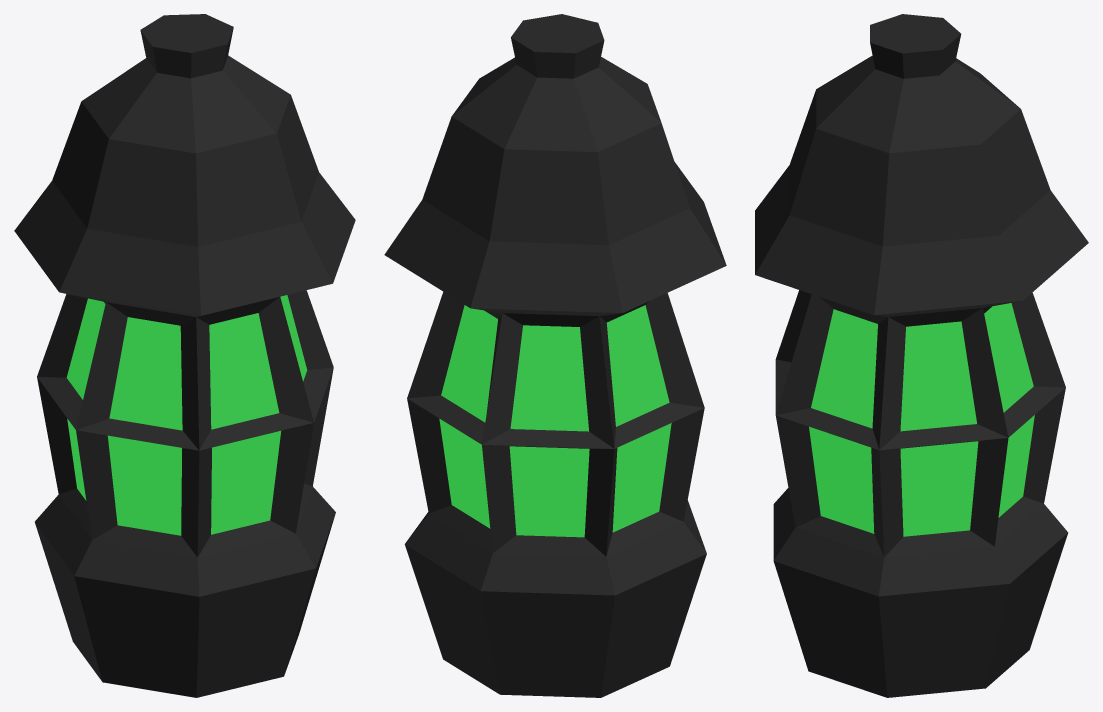
The model's file is LPHorror_Circle.fbx.
The picture shows the model from 3 angles, left to right: view 1: azimuth 30°, elevation 25°; view 2: azimuth 150°, elevation 25°; view 3: azimuth 270°, elevation 25°; orthographic projection.
Visible parts, largest first — view 1: Circle; view 2: Circle; view 3: Circle.
Boxes of the visible parts, x1,y1,x2,y2 form: Circle: [14, 14, 355, 697]; Circle: [384, 14, 726, 697]; Circle: [755, 14, 1088, 697].
Size of the model in its own units: 37.87 by 75.17 by 36.92.
